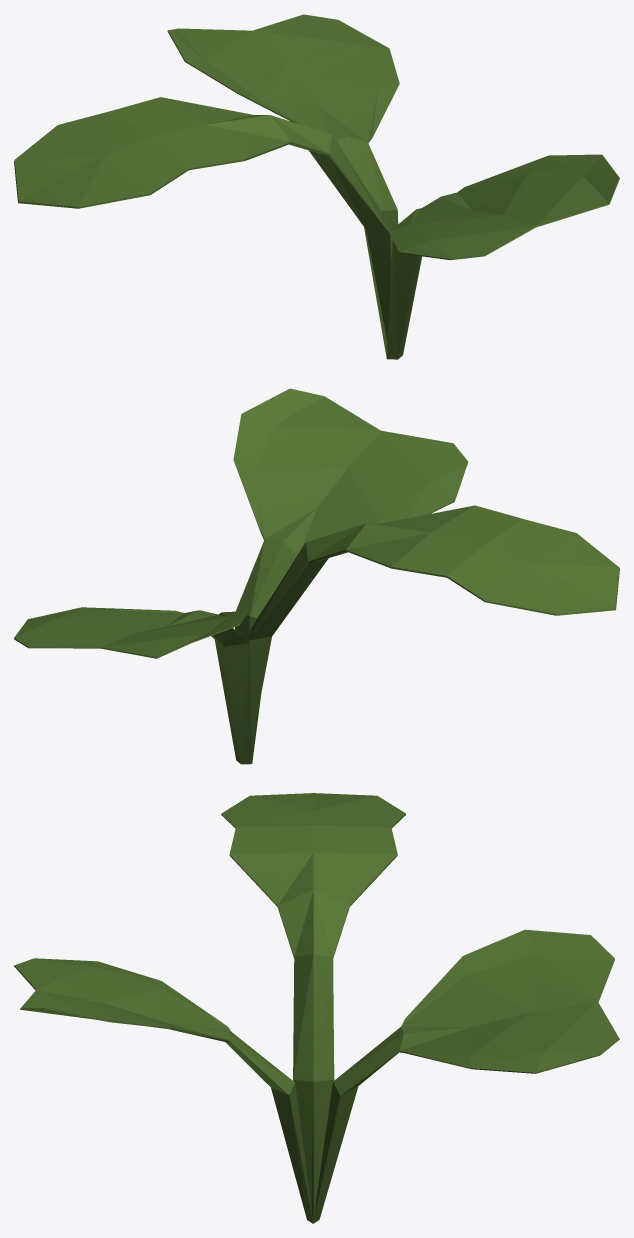
The model's file is Crop_Cauliflower_STAGE_1_01.obj.
The picture shows the model from 3 angles, top to bottom: view 1: azimuth 30°, elevation 25°; view 2: azimuth 150°, elevation 25°; view 3: azimuth 270°, elevation 25°; orthographic projection.
Visible parts, largest first — view 1: Crop_Cauliflower_STAGE_1_01; view 2: Crop_Cauliflower_STAGE_1_01; view 3: Crop_Cauliflower_STAGE_1_01.
Boxes of the visible parts, bbox=[...] form: Crop_Cauliflower_STAGE_1_01: bbox=[14, 14, 619, 359]; Crop_Cauliflower_STAGE_1_01: bbox=[14, 388, 619, 764]; Crop_Cauliflower_STAGE_1_01: bbox=[14, 793, 619, 1223].
Size of the model in its own units: 0.1801 by 0.0995 by 0.1973.
1 material, 1 textured.
